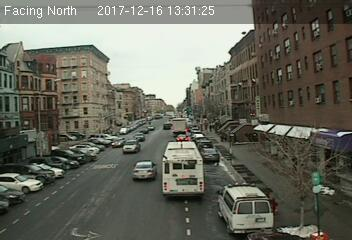bus: (161, 141, 205, 200)
car: (132, 160, 158, 182), (201, 146, 221, 162), (123, 139, 140, 154), (110, 138, 124, 148)
police: (218, 181, 275, 237)
